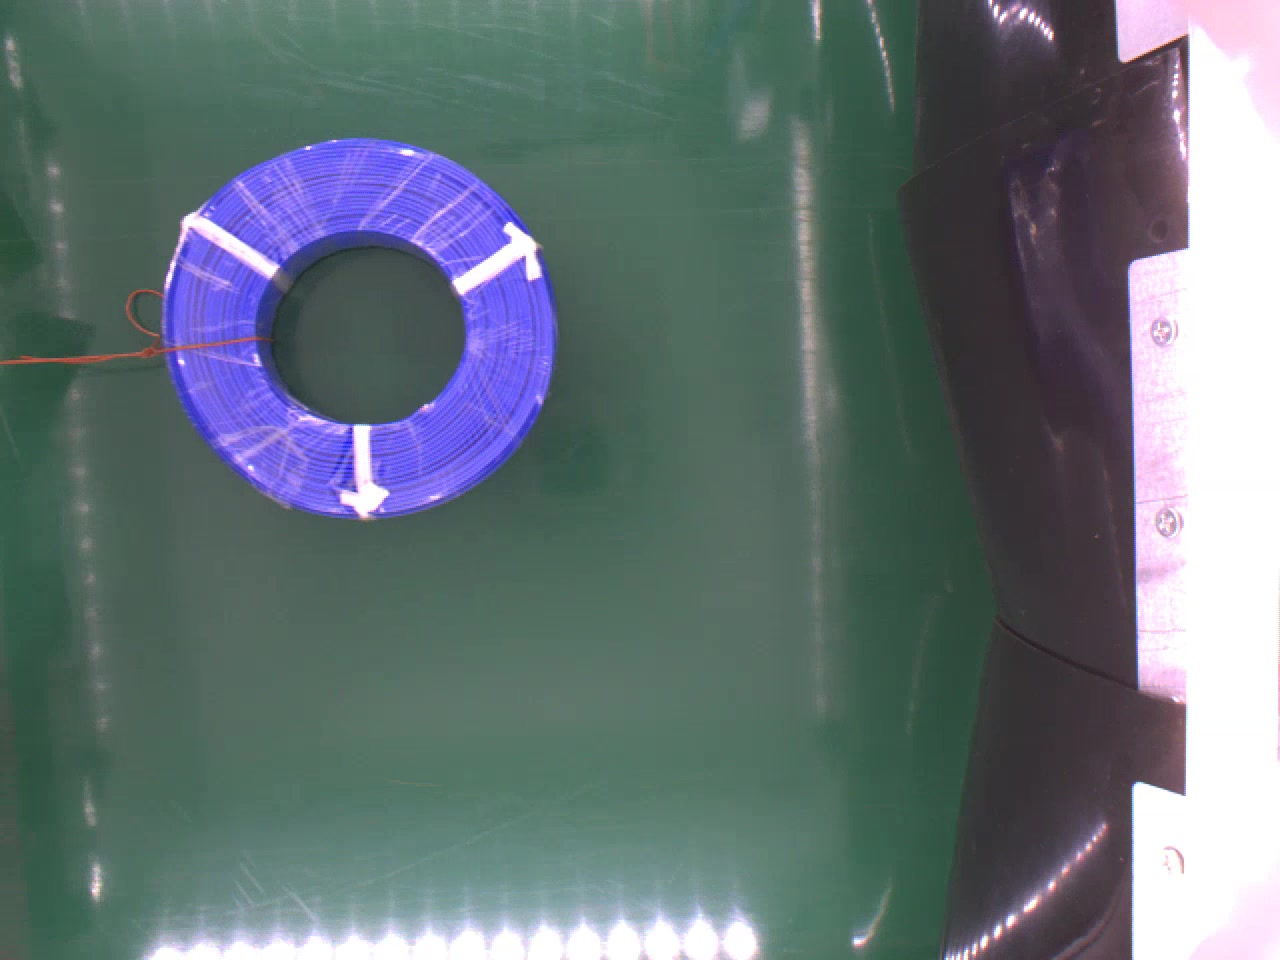blue: (160, 134, 558, 528)
